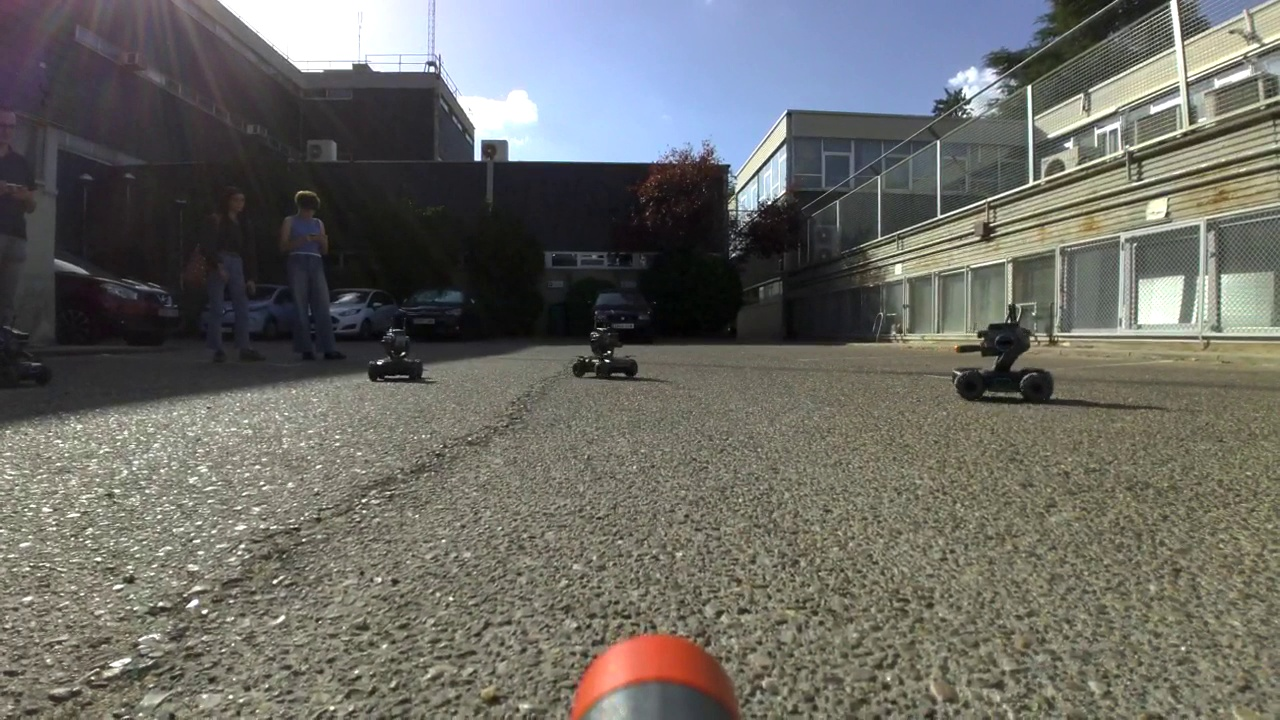robot: (952, 301, 1054, 405), (573, 314, 640, 381), (369, 316, 422, 384), (1, 313, 48, 386)
